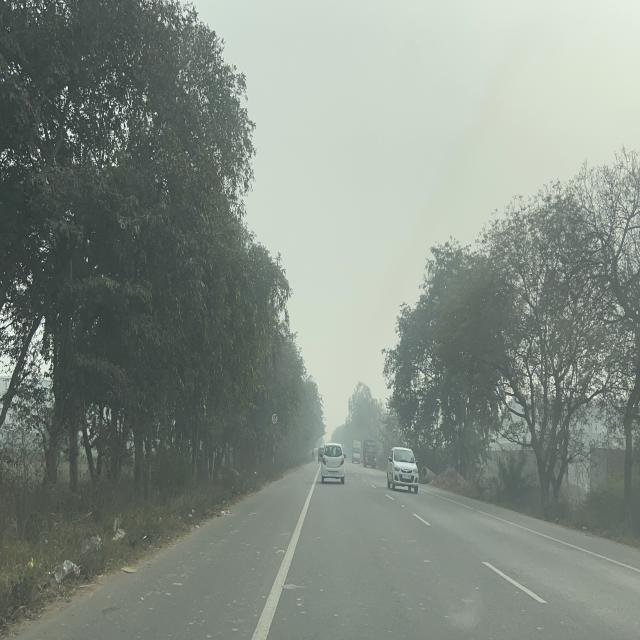OVERTAKING_PROHIBITED: (271, 412, 278, 425)
